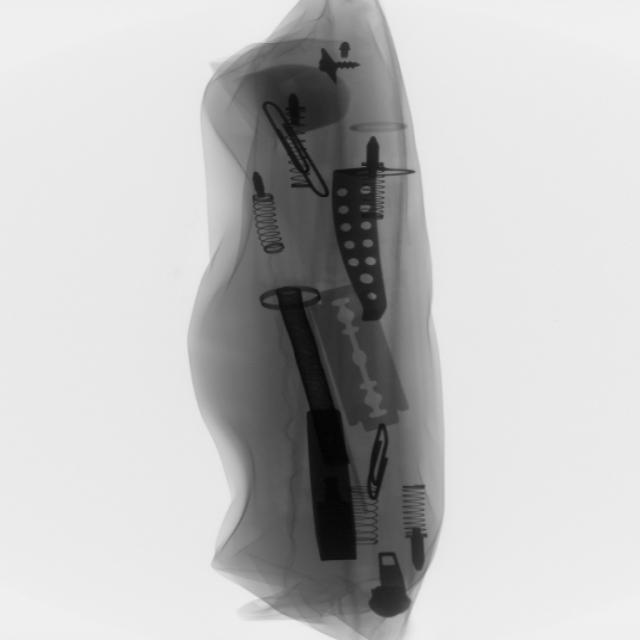BLADE: (310, 278, 412, 446)
